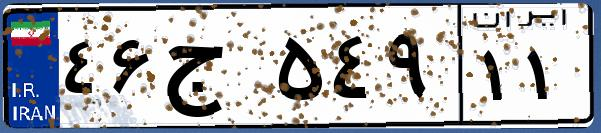1: (475, 38, 525, 113), (525, 38, 570, 115)
4: (330, 28, 385, 110), (57, 26, 110, 100)
5: (270, 28, 330, 110)
6: (110, 28, 158, 98)
9: (385, 28, 445, 110)
ج: (158, 20, 270, 120)
